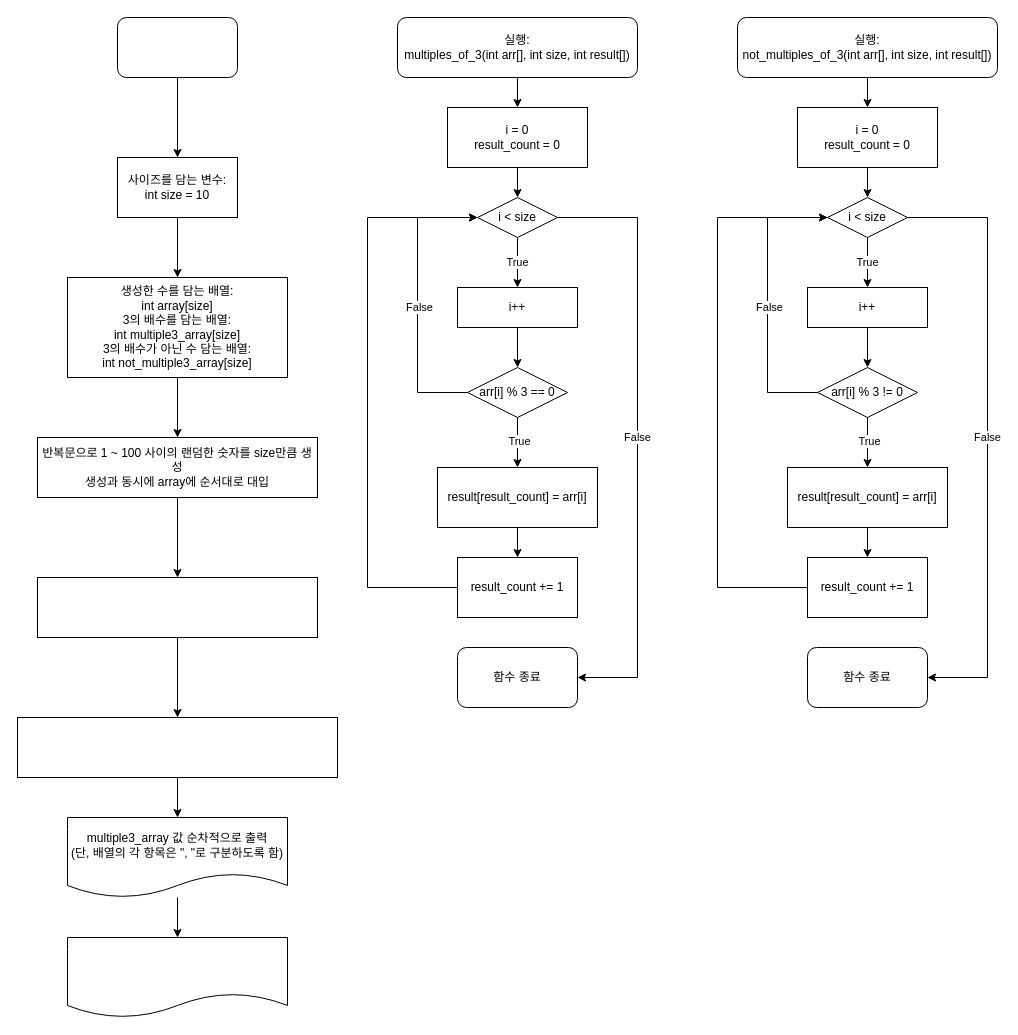
The diagram is 1018 pixels wide and 1035 high, and some of its shapes have lost their labels. The shapes that lost their labels are listed below. From the top down, each one's centre as x and y in pixels, then its label:
point (177, 47): 프로그램 시작
point (177, 607): multiples_of_3(array, size, multiple3_array) 실행
point (177, 747): not_multiples_of_3(array, size, not_multiple3_array) 실행
point (177, 977): not_multiple3_array 값 순차적으로 출력 (단, 배열의 각 항목은 ", "로 구분하도록 함)
